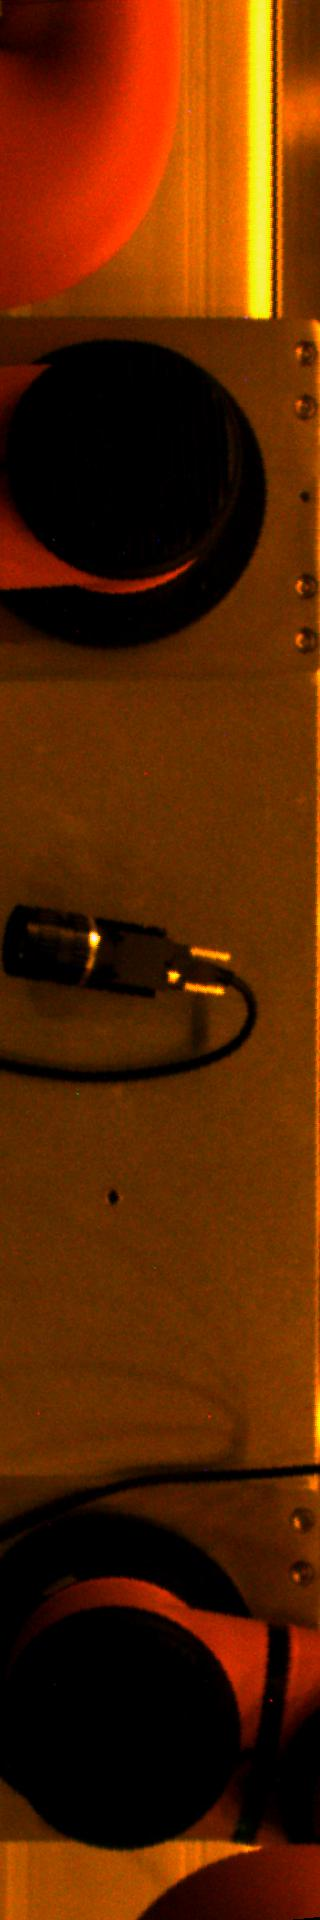keyPoint_2: (97, 1182, 128, 1212)
